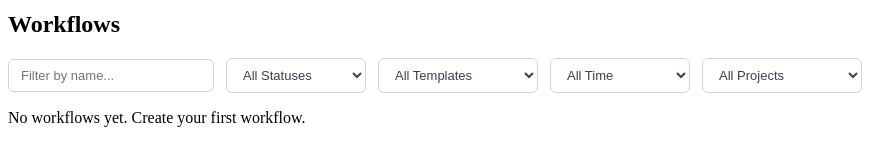
Test case: WorkflowList › 9 — shows empty filter state when no results match
Note: Set a filter so the component shows "No workflows match..." instead of "No workflows yet"
Select "Running" in the dropdown named "status" at [296, 75], box 226,58 -> 366,93
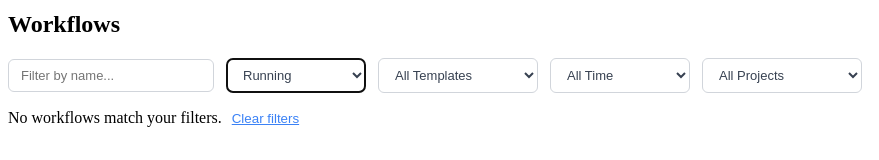
expect the text "No workflows match your filters. Clear filters" is shown: met, box 8,109 -> 305,126
expect the button "Clear filters" is shown: met, box 226,110 -> 305,127
